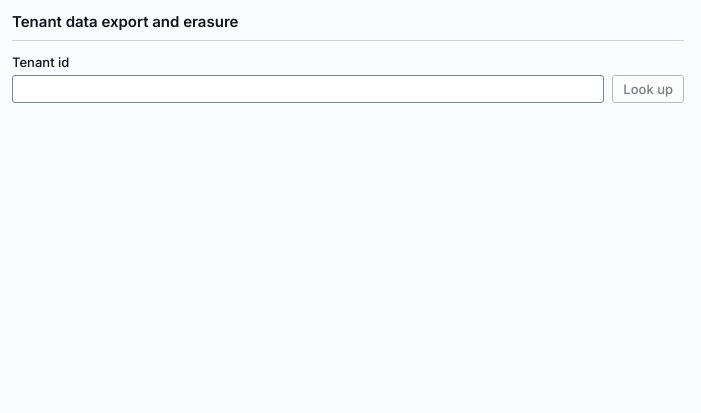
Test: TenantDataCard › keeps erasure disabled for an active tenant and explains why
This screenshot has width=701, height=413.
Type "globex" into the field labelled "Tenant id" at coordinates (308, 89), box [12,75,604,103]
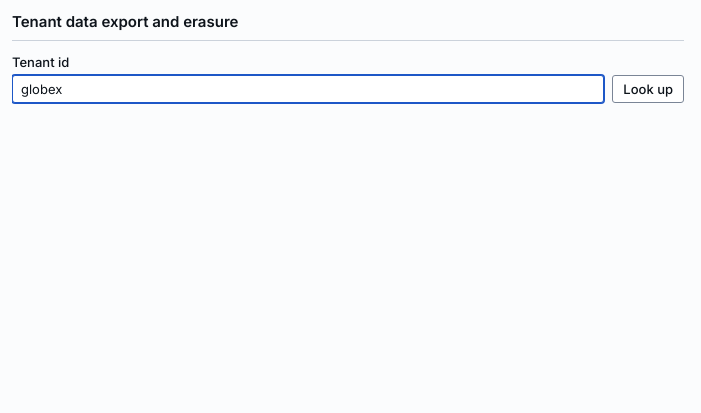
Click the button "Look up" at coordinates (648, 89), box [612,75,684,103]
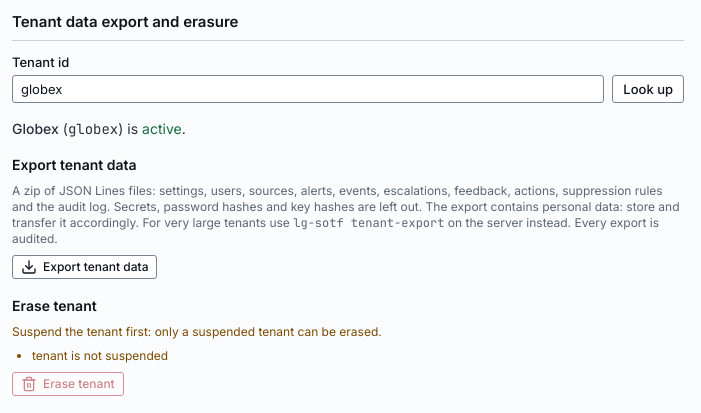
Check: the text "Suspend the tenant first" is shown, box [12,324,382,339]
Check: the list item "tenant is not suspended" is shown, box [32,348,168,363]
Check: the button "Erase tenant" is disabled, box [12,372,124,396]
